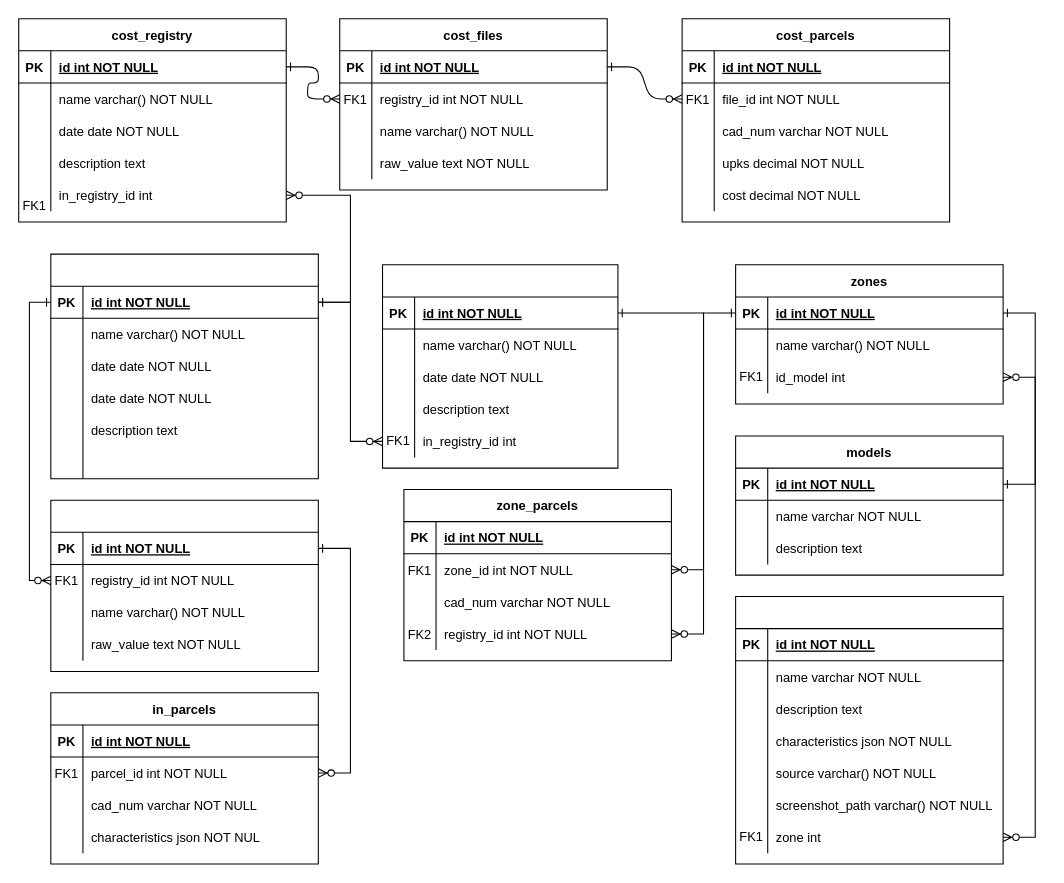
Some shapes in this 1064 by 883 pixel diagram are drawn without their labels. Each missing label, with the box of its shape:
Analogs: (735, 595, 1003, 864)
in_files: (50, 499, 318, 671)
in_registry: (50, 253, 318, 479)
zone_registry: (381, 264, 618, 468)
